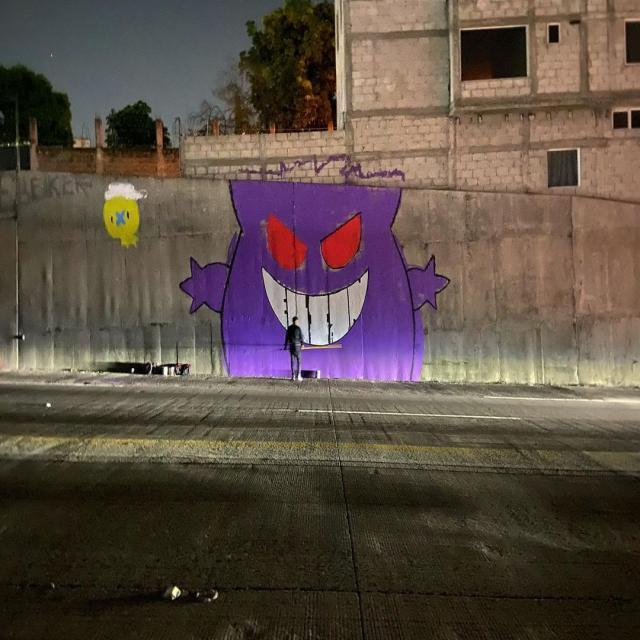-: (176, 150, 454, 388), (93, 174, 149, 258), (0, 170, 94, 208)
